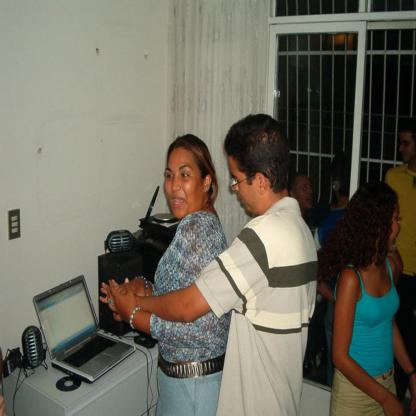board: (32, 273, 136, 383)
